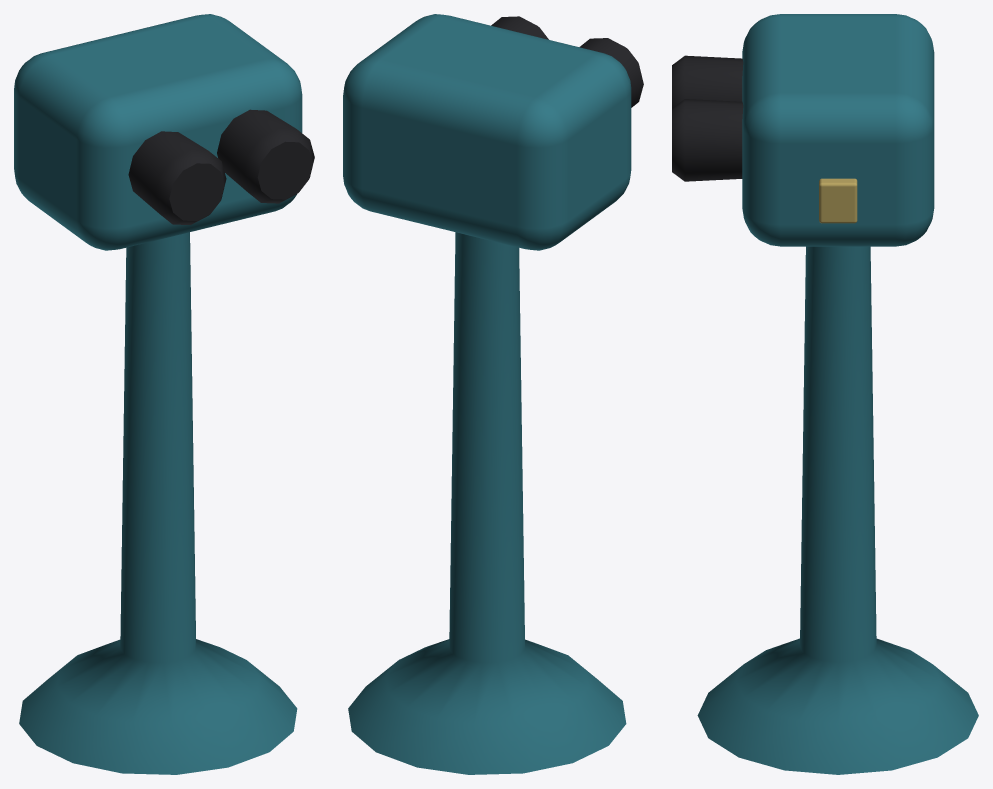
Rendered from viewer.glb.
The picture shows the model from 3 angles, left to right: view 1: azimuth 30°, elevation 25°; view 2: azimuth 150°, elevation 25°; view 3: azimuth 270°, elevation 25°; orthographic projection.
Parts seen in each view (by area): view 1: viewer_main; view 2: viewer_main; view 3: viewer_main.
Part boxes in pixels (x1,y1,x2,y2): viewer_main: (14, 14, 314, 774); viewer_main: (343, 14, 643, 774); viewer_main: (672, 14, 978, 774).
Size of the model in its own units: 0.44 by 1.14 by 0.48.
